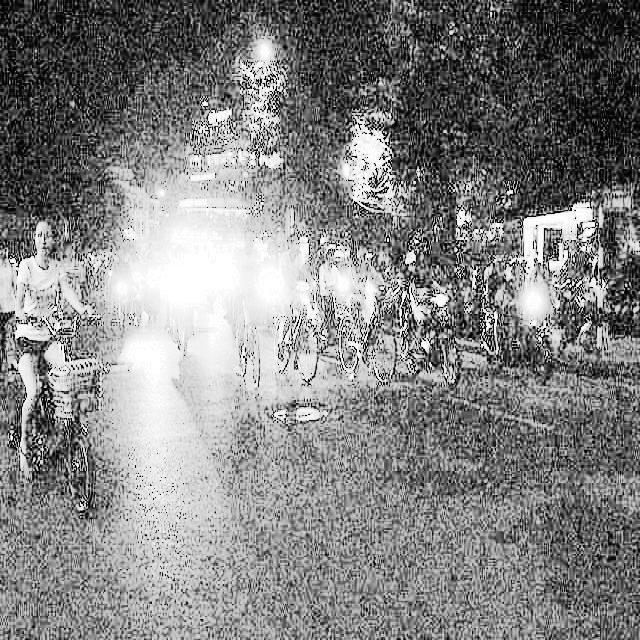Bicycle: (5, 295, 118, 511), (388, 310, 491, 390), (226, 279, 278, 405), (324, 298, 398, 386), (268, 292, 324, 390)
Motorcycle: (487, 301, 555, 390), (162, 285, 209, 380), (100, 270, 152, 329)
Person: (0, 194, 84, 466), (399, 219, 446, 349), (477, 240, 527, 359), (313, 221, 352, 345), (341, 226, 382, 332), (229, 216, 267, 330), (277, 216, 311, 326)
